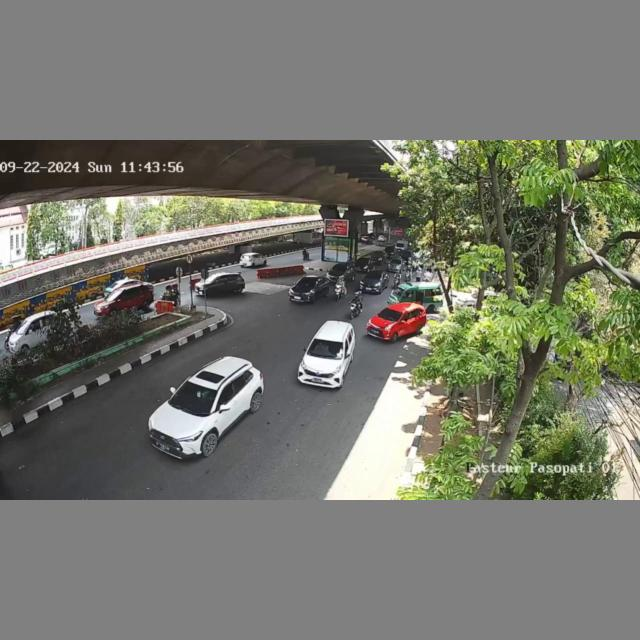windshield: (173, 380, 217, 415), (306, 338, 345, 360), (375, 307, 403, 321), (296, 278, 318, 287), (365, 272, 382, 280)
